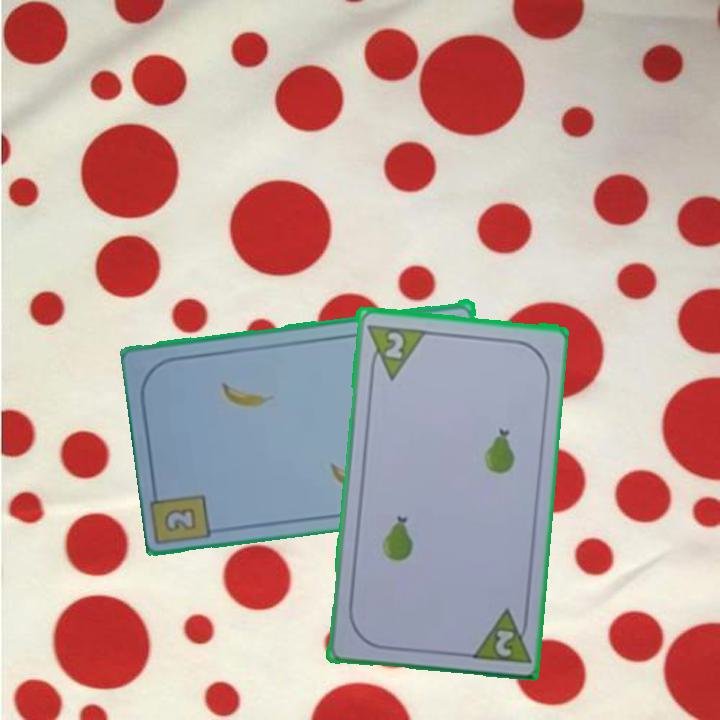2b: (160, 503, 200, 535)
2p: (466, 604, 532, 666), (362, 320, 427, 382)
